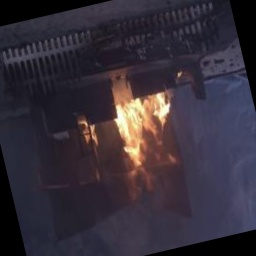fire: (100, 86, 186, 197)
